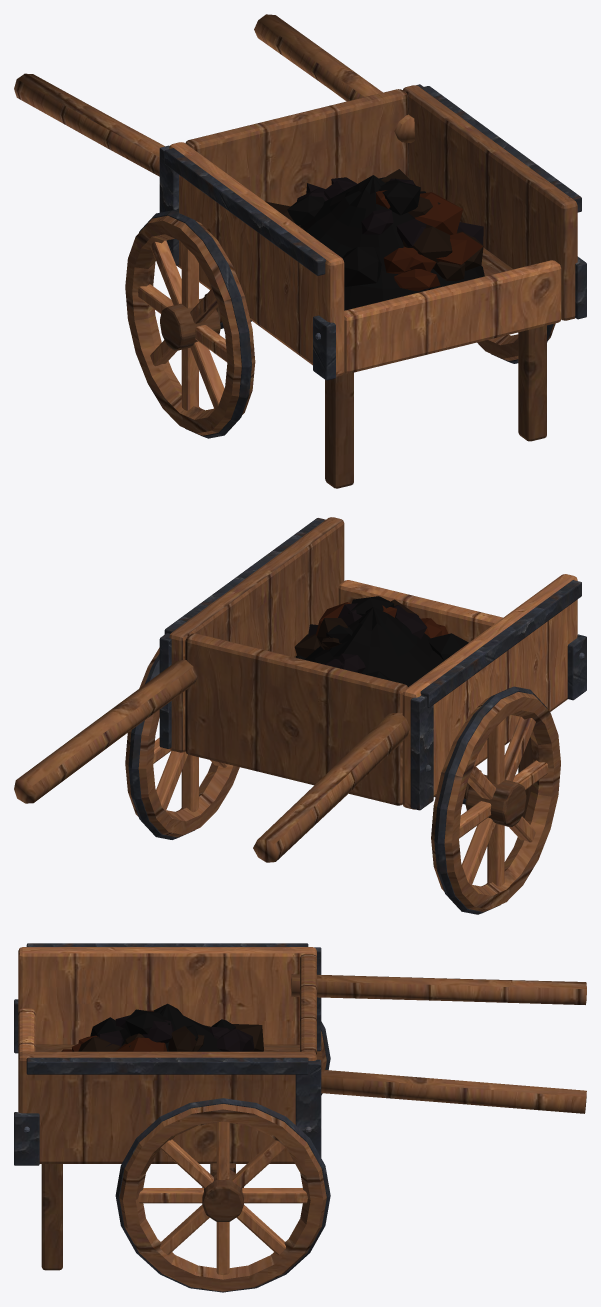
The model's file is cf_slag_cart.glb.
3 views of the same model, one above another, from view 1: azimuth 30°, elevation 25°; view 2: azimuth 150°, elevation 25°; view 3: azimuth 270°, elevation 25° (orthographic). The views are drawn at different scales.
Visible parts, largest first — view 1: model; view 2: model; view 3: model.
Boxes of the visible parts, x1=… form: model: x1=14, y1=14, x2=586, y2=488; model: x1=14, y1=517, x2=586, y2=914; model: x1=14, y1=943, x2=586, y2=1292.
Size of the model in its own units: 0.86 by 0.575 by 1.34.
9 materials, 5 textured.
